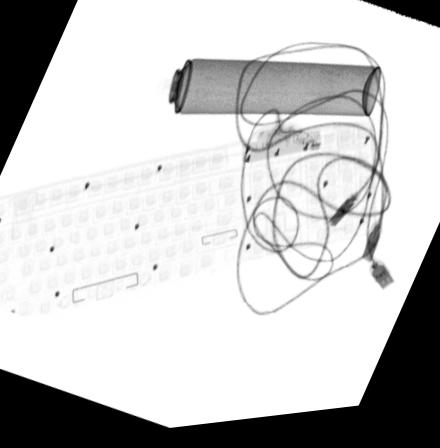Sprayer: (145, 58, 383, 127)
